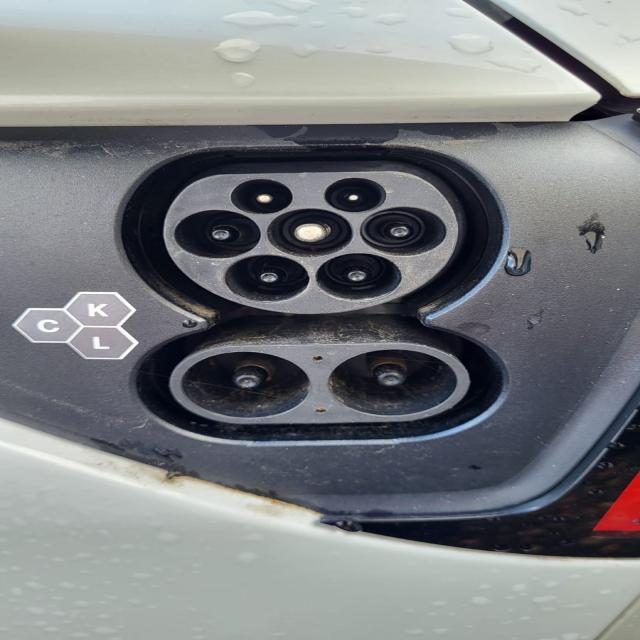inlet: (164, 171, 460, 314)
inlet-above-left: (230, 179, 293, 215)
inlet-above-right: (324, 177, 387, 213)
inlet-below-left: (225, 255, 310, 303)
inlet-below-right: (315, 253, 402, 302)
inlet-center: (266, 208, 354, 257)
inlet-center-left: (173, 210, 261, 259)
inlet-center-right: (359, 206, 446, 257)
